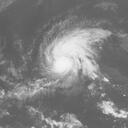cyclone: (42, 28, 112, 77)
